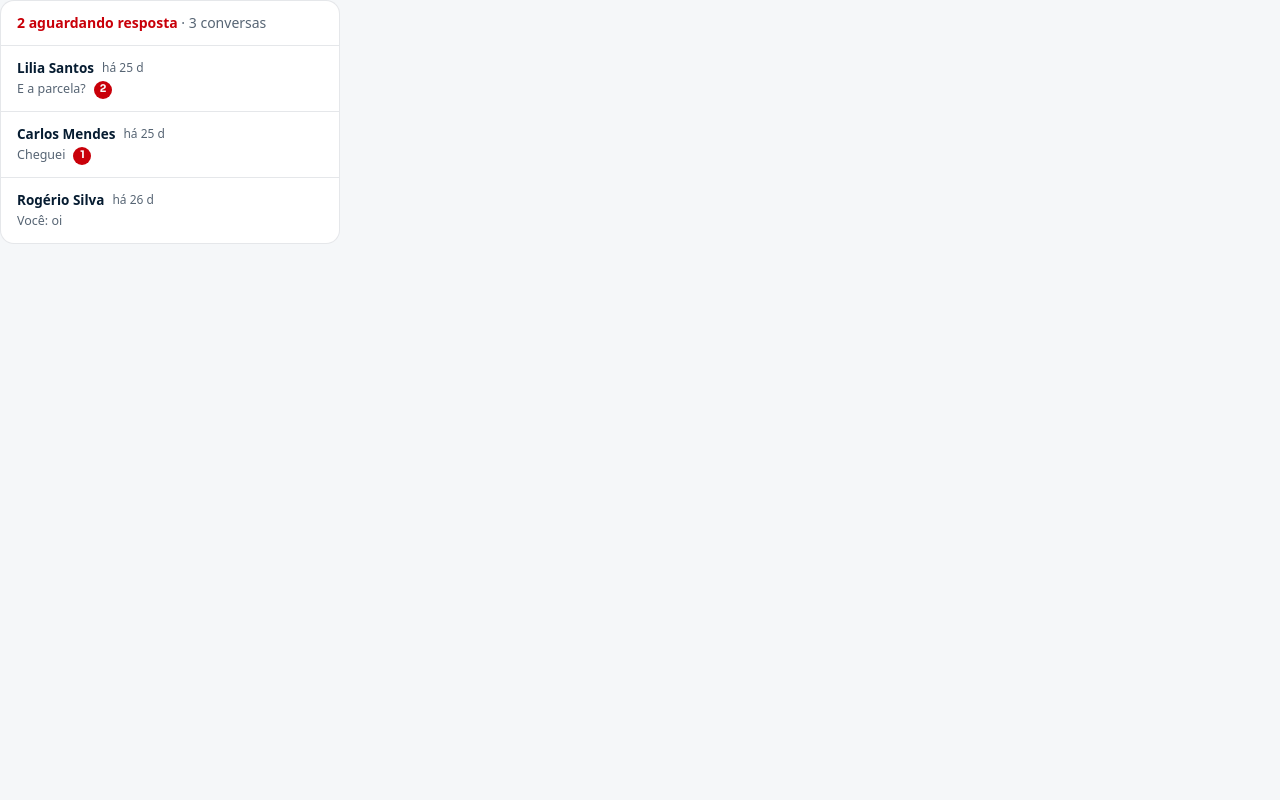
Test: <CentralMensagens /> no celular — mestre-detalhe › lista primeiro; a conversa abre em tela cheia e 'Voltar' devolve à lista
Click the button "Carlos Mendes há 25 d Cheguei 1": coordinates (66, 134) [1,112,339,177]
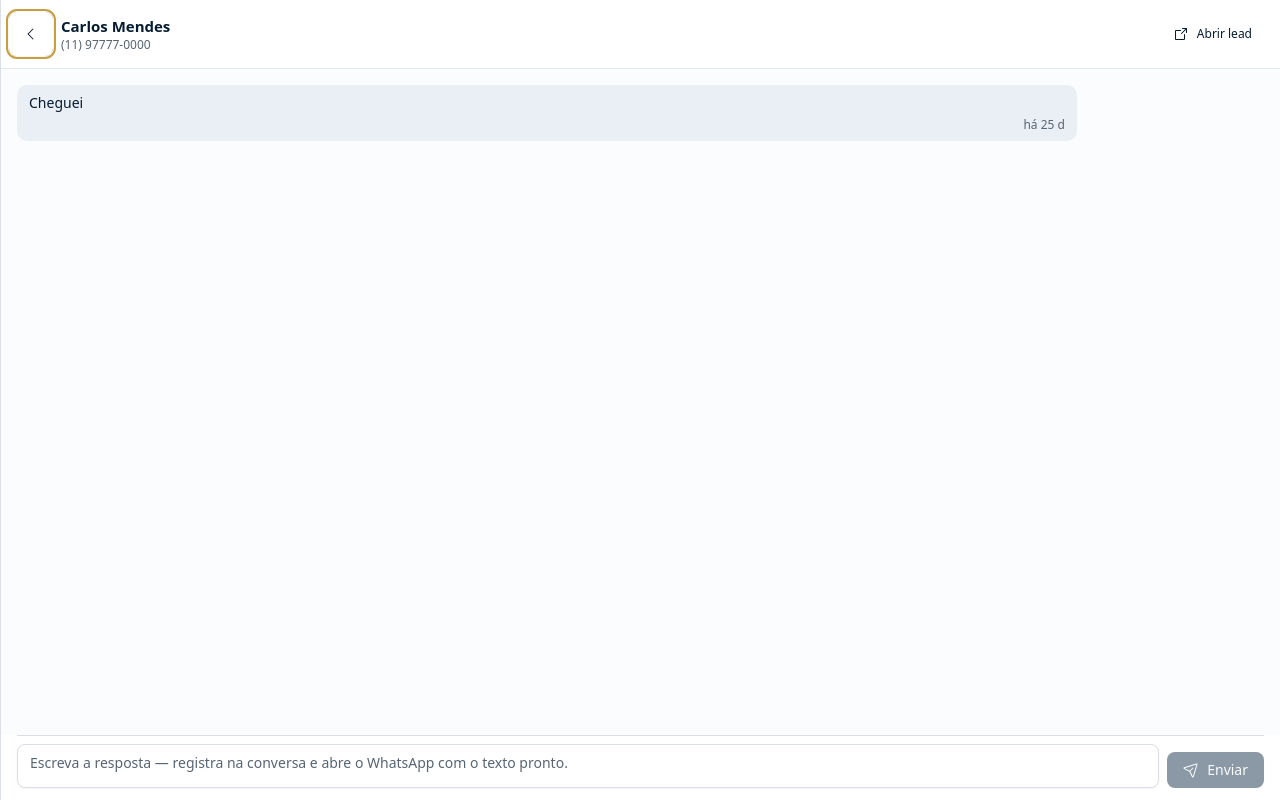
Expected: the text box named "Mensagem" is shown, [17,744,1159,788]
Expected: the link "Abrir lead" is shown, [1173,25,1252,42]
Click the button named "Voltar às conversas": coordinates (31, 34) [9,12,53,56]
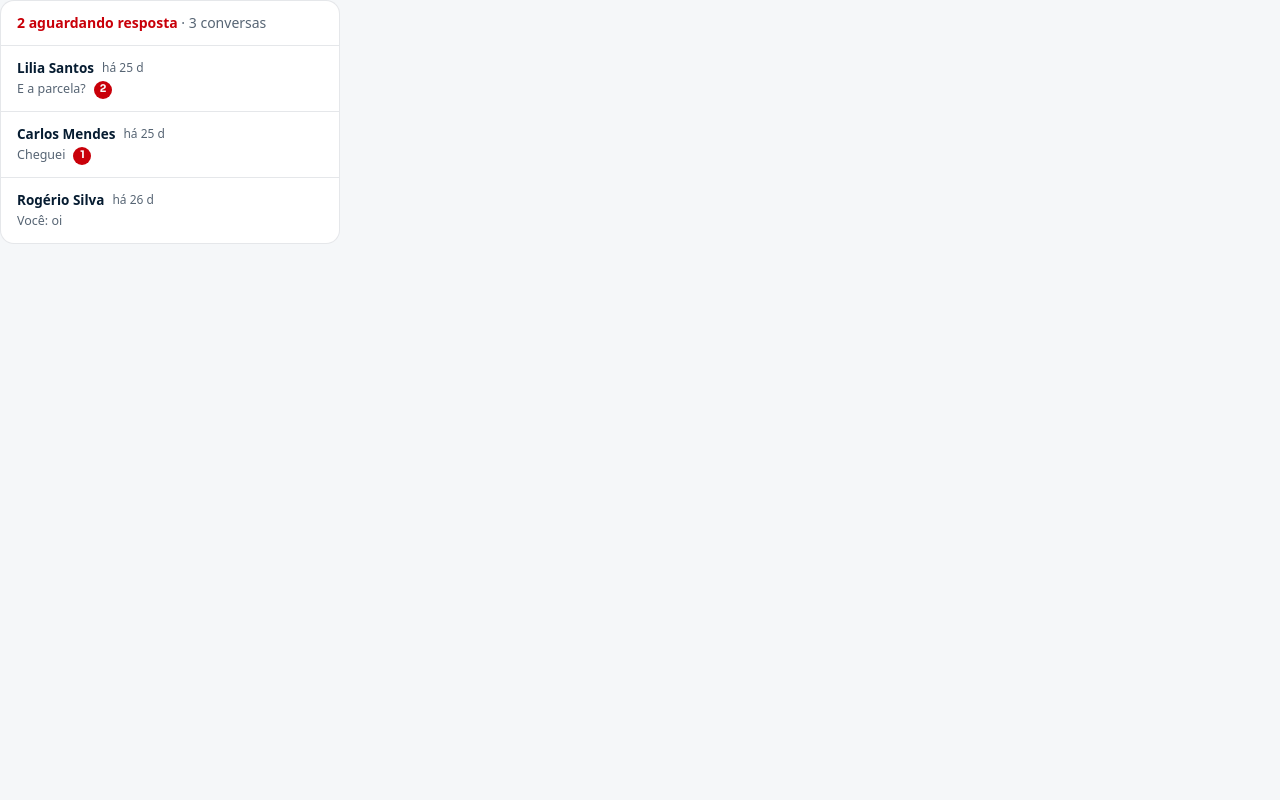
Expected: the dialog is gone
